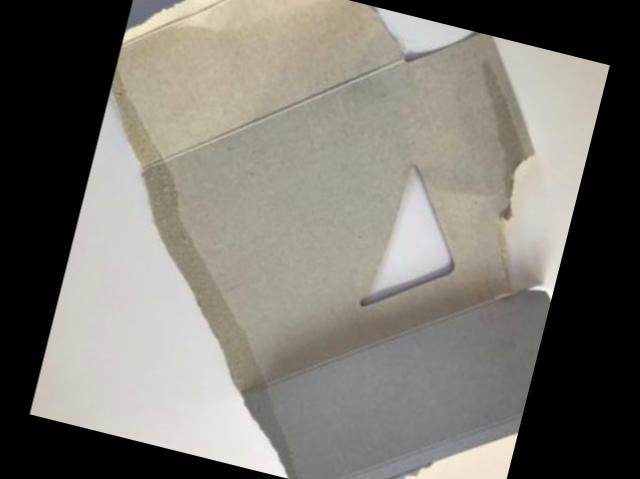cardboard paper: (113, 0, 551, 479)
